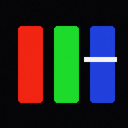3 line_h: (84, 57, 116, 61)
